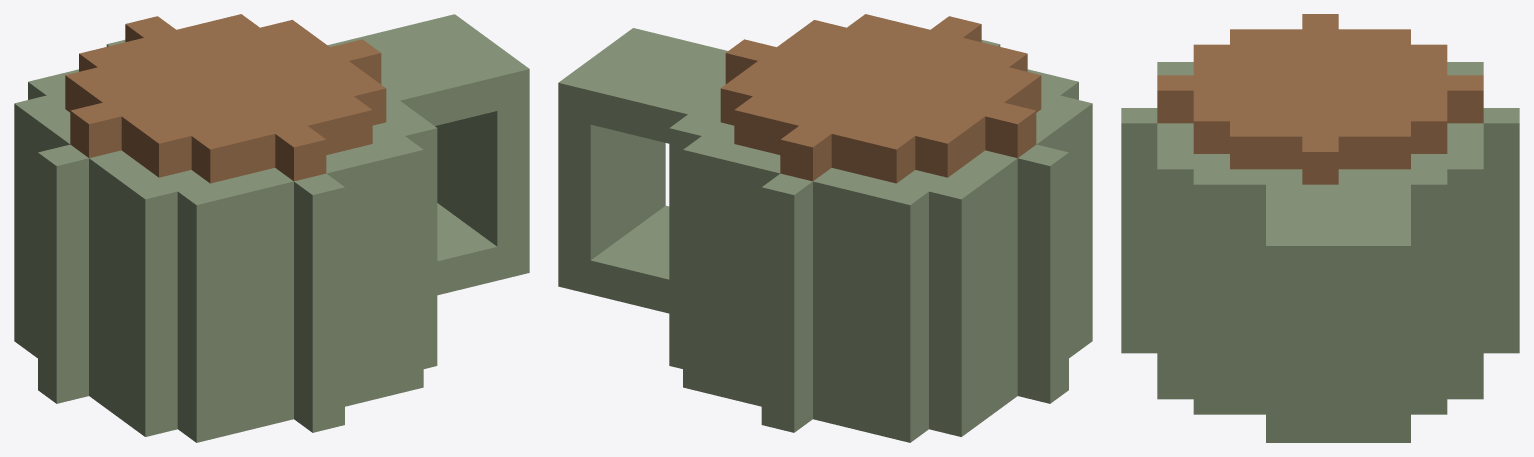
File: productivity-07.glb
The picture shows the model from 3 angles, left to right: view 1: azimuth 30°, elevation 25°; view 2: azimuth 150°, elevation 25°; view 3: azimuth 270°, elevation 25°; orthographic projection. The views are drawn at different scales.
Parts seen in each view (by area): view 1: Coffee mug; view 2: Coffee mug; view 3: Coffee mug.
Boxes of the visible parts, x1,y1,x2,y2 form: Coffee mug: (14, 14, 529, 442); Coffee mug: (558, 14, 1092, 442); Coffee mug: (1121, 14, 1519, 442).
Size of the model in its own units: 1.12 by 0.64 by 0.88.
